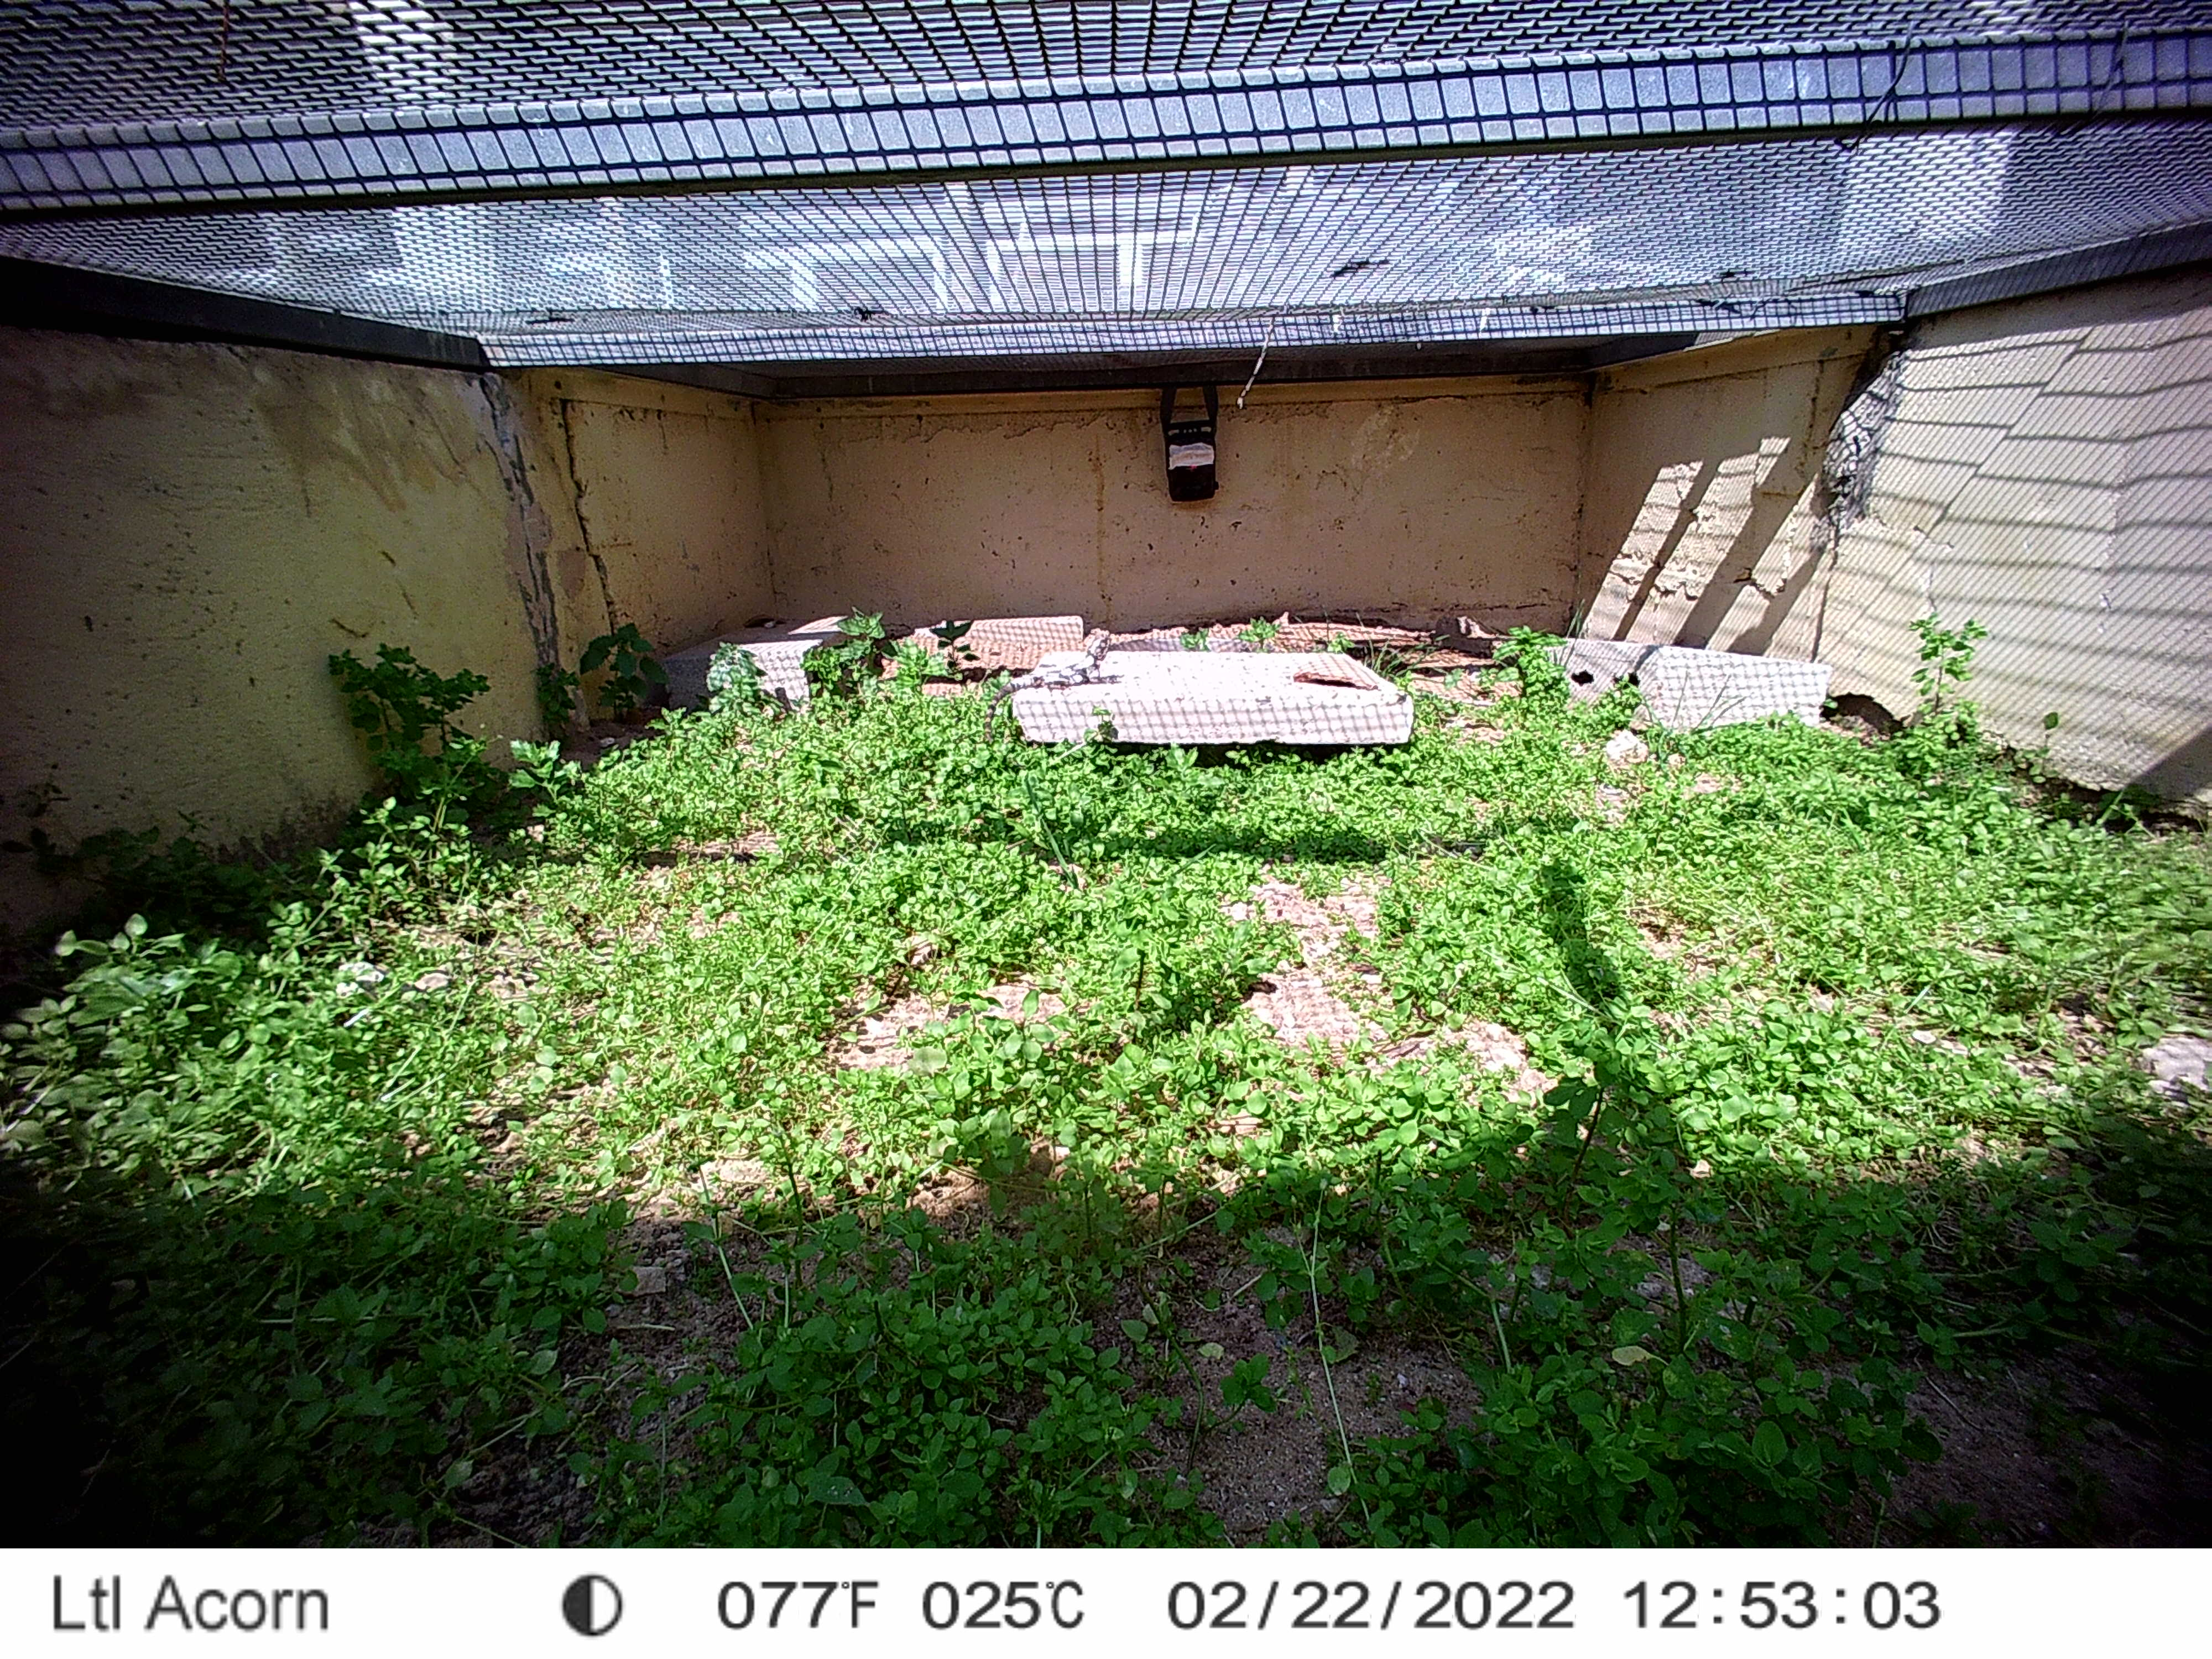lizard: (991, 631, 1123, 695)
